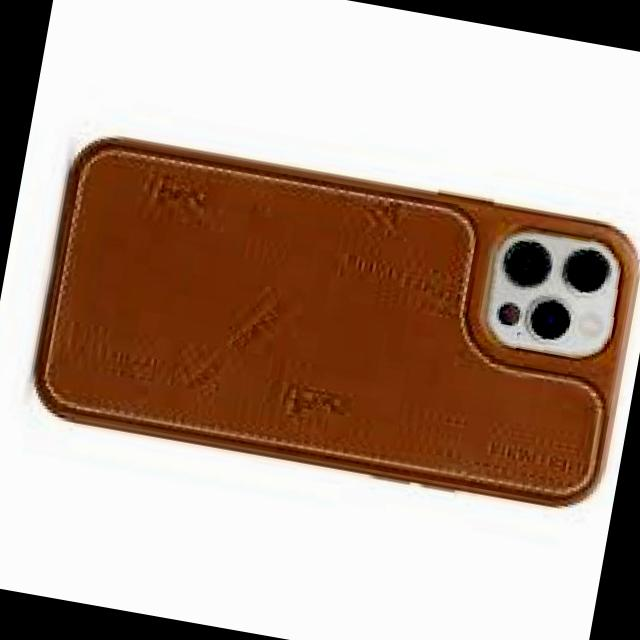lens_back: (474, 220, 629, 364)
phone: (12, 117, 640, 521)
